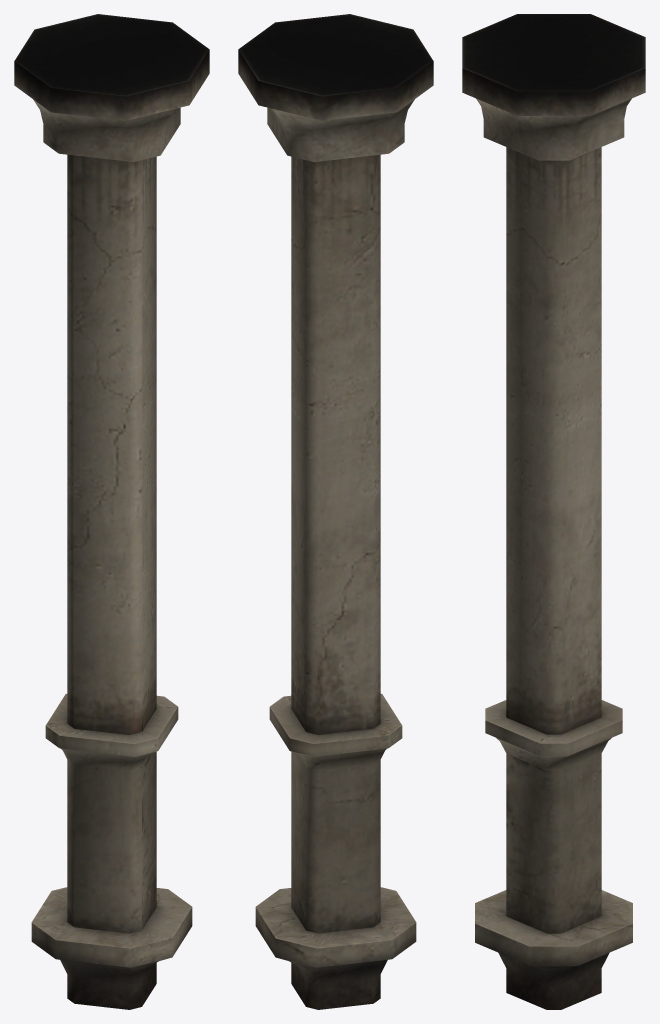
File: welder.dae
3 renders of one model, left to right at view 1: azimuth 30°, elevation 25°; view 2: azimuth 150°, elevation 25°; view 3: azimuth 270°, elevation 25°, orthographic.
Parts seen in each view (by area): view 1: mansionbase_welder; view 2: mansionbase_welder; view 3: mansionbase_welder.
Boxes of the visible parts, x1,y1,x2,y2 form: mansionbase_welder: [14, 14, 209, 1009]; mansionbase_welder: [238, 14, 433, 1009]; mansionbase_welder: [462, 14, 645, 1009].
Bounding box in the file's own units: 0.7087 × 4 × 0.7087.
